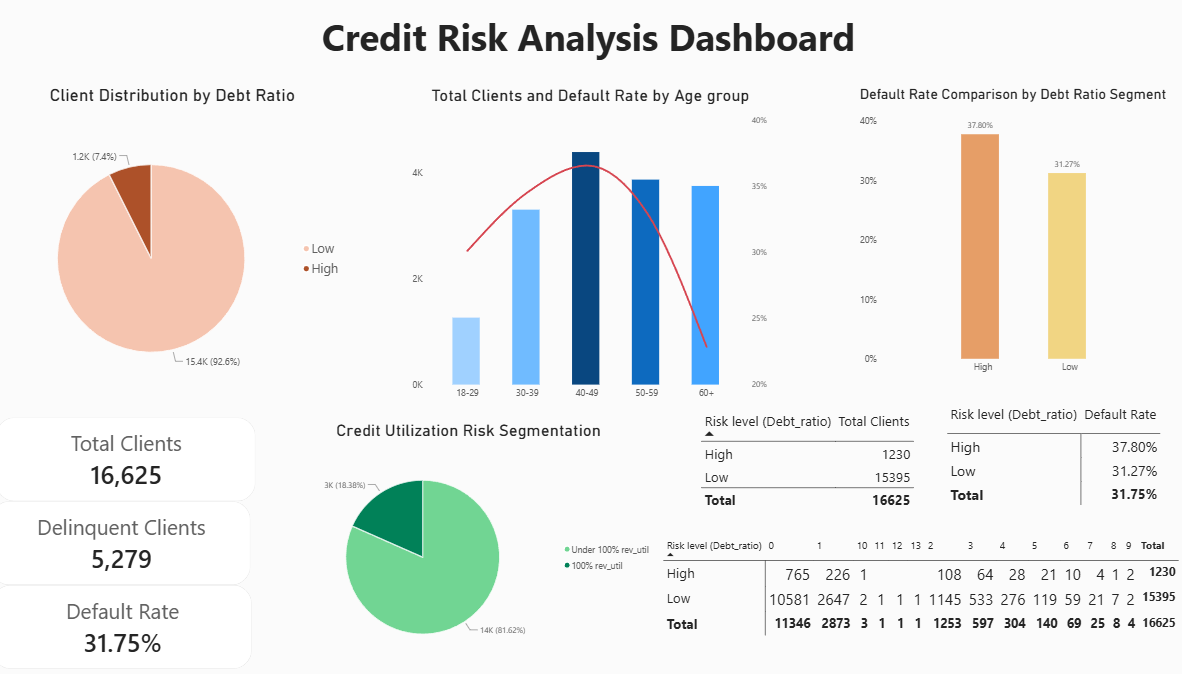

What the dashboard file says about the page in this screenshot:
{"tool":"powerbi","page":{"name":"Page 1","canvas":[1920,1080],"ordinal":0},"visuals":[{"type":"lineStackedColumnComboChart","title":"Total Clients and Default Rate by Age group","fields":{"Category":["Cleaned Dataset.age_category"],"Y":["Cleaned Dataset.Total Clients"],"Y2":["Cleaned Dataset.Default Rate"]},"box":[658.7,121.7,602.2,537],"z":0},{"type":"pieChart","title":"Credit Utilization Risk Segmentation","fields":{"Category":["Cleaned Dataset.Utilization segment"],"Y":["Cleaned Dataset.Total Clients"]},"box":[450,658.7,628.3,421.7],"z":1000},{"type":"pieChart","title":"Client Distribution by Debt Ratio","fields":{"Category":["Cleaned Dataset.Risk level (Debt_ratio)"],"Y":["Cleaned Dataset.Total Clients"]},"box":[0,121.7,580.4,537],"z":2000},{"type":"tableEx","fields":{"Values":["Cleaned Dataset.Risk level (Debt_ratio)","Cleaned Dataset.Total Clients"]},"box":[1119.6,639.3,394.6,203.6],"z":4000},{"type":"clusteredColumnChart","title":"Default Rate Comparison by Debt Ratio Segment","fields":{"Category":["Cleaned Dataset.Risk level (Debt_ratio)"],"Y":["Cleaned Dataset.Default Rate"]},"box":[1373.9,121.7,528.3,495.7],"z":5000},{"type":"pivotTable","fields":{"Columns":["Cleaned Dataset.late_30_59"],"Rows":["Cleaned Dataset.Risk level (Debt_ratio)"],"Values":["Cleaned Dataset.Total Clients"]},"box":[1060.7,842.9,858.9,226.8],"z":6000},{"type":"pivotTable","fields":{"Rows":["Cleaned Dataset.Risk level (Debt_ratio)"],"Values":["Cleaned Dataset.Default Rate"]},"box":[1514.3,628.6,405.4,214.3],"z":7000},{"type":"textbox","box":[153.6,17.9,1603.6,208.9],"z":8000},{"type":"cardVisual","fields":{"Data":["Cleaned Dataset.Default Rate"]},"box":[1.8,935.7,415.2,134.8],"z":9000},{"type":"cardVisual","fields":{"Data":["Cleaned Dataset.Total Clients"]},"box":[8.9,667.9,415.2,134.8],"z":10000},{"type":"cardVisual","fields":{"Data":["Cleaned Dataset.Delinquent Clients"]},"box":[0,801.8,415.2,134.8],"z":11000}]}

Visuals, with their boxes in screenshot pixels (x1, y1, x2, y2), scaled from the page's 1920x1080 canvas onto the 1182x674 screenshot:
"Total Clients and Default Rate by Age group" lineStackedColumnComboChart: Rect(406, 76, 776, 411)
"Credit Utilization Risk Segmentation" pieChart: Rect(277, 411, 664, 673)
"Client Distribution by Debt Ratio" pieChart: Rect(0, 76, 357, 411)
tableEx - Cleaned Dataset.Risk level (Debt_ratio) x Cleaned Dataset.Total Clients: Rect(689, 399, 932, 526)
"Default Rate Comparison by Debt Ratio Segment" clusteredColumnChart: Rect(846, 76, 1171, 385)
pivotTable - Cleaned Dataset.late_30_59 x Cleaned Dataset.Risk level (Debt_ratio): Rect(653, 526, 1181, 668)
pivotTable - Cleaned Dataset.Risk level (Debt_ratio) x Cleaned Dataset.Default Rate: Rect(932, 392, 1181, 526)
textbox: Rect(95, 11, 1082, 142)
cardVisual - Cleaned Dataset.Default Rate: Rect(1, 584, 257, 668)
cardVisual - Cleaned Dataset.Total Clients: Rect(5, 417, 261, 501)
cardVisual - Cleaned Dataset.Delinquent Clients: Rect(0, 500, 256, 585)
